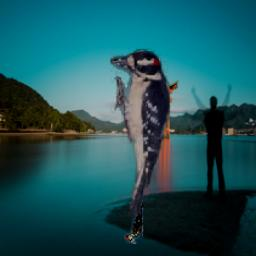Woodpecker: (110, 46, 171, 216), (124, 200, 143, 245)
